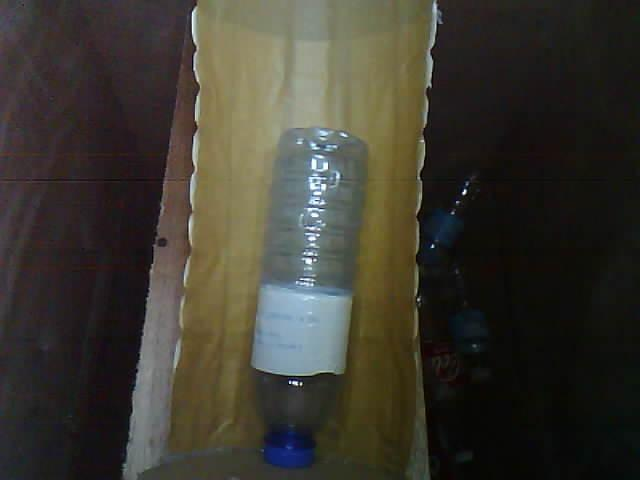small_bottle: (231, 115, 378, 480)
